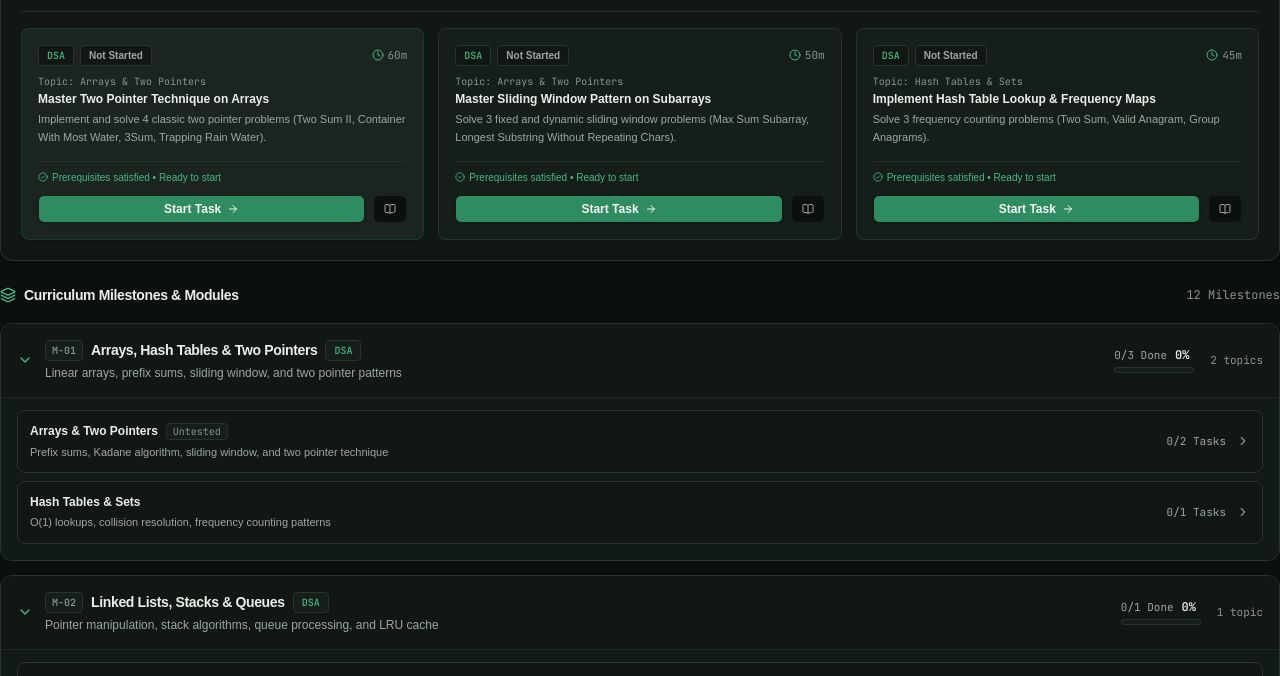
Scenario: ROADMAP MANUFACTURING PART 2: Active Phase + Milestones + Immediate Focus › 5. module milestone rendering: renders milestone cards with code, domain, progress, and collapsible toggle
The image size is (1280, 676).
(page scrolled)
Expected: the element with test id "milestone-card-mod-dsa-1" is shown, top-left (0, 323), bottom-right (1279, 561)
Expected: the text "M-01" is shown, top-left (45, 340), bottom-right (83, 361)
// Collapse module
Click the button with test id "milestone-toggle-mod-dsa-1" at (64, 350), box top-left (1, 324), bottom-right (1279, 397)
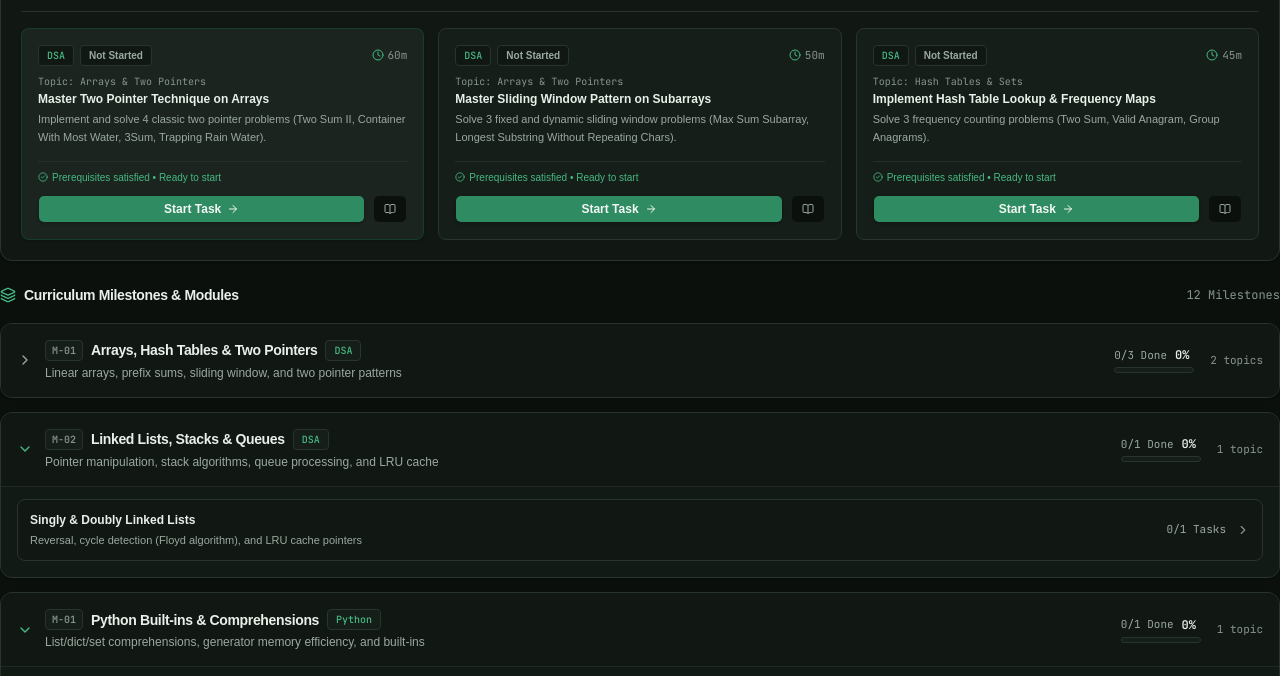
Expected: the button with test id "milestone-toggle-mod-dsa-1" is collapsed
// Re-expand module
Click the button with test id "milestone-toggle-mod-dsa-1" at (64, 350), box top-left (1, 324), bottom-right (1279, 397)
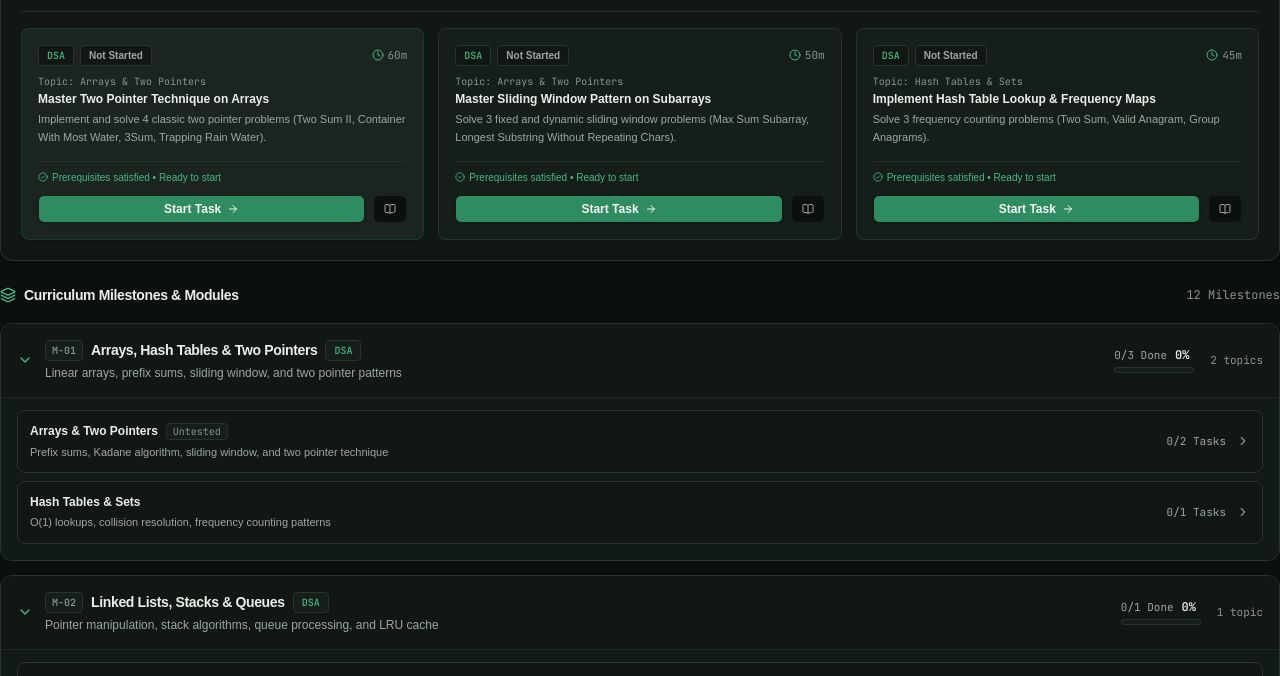
Expected: the button with test id "milestone-toggle-mod-dsa-1" is expanded, top-left (1, 324), bottom-right (1279, 397)
